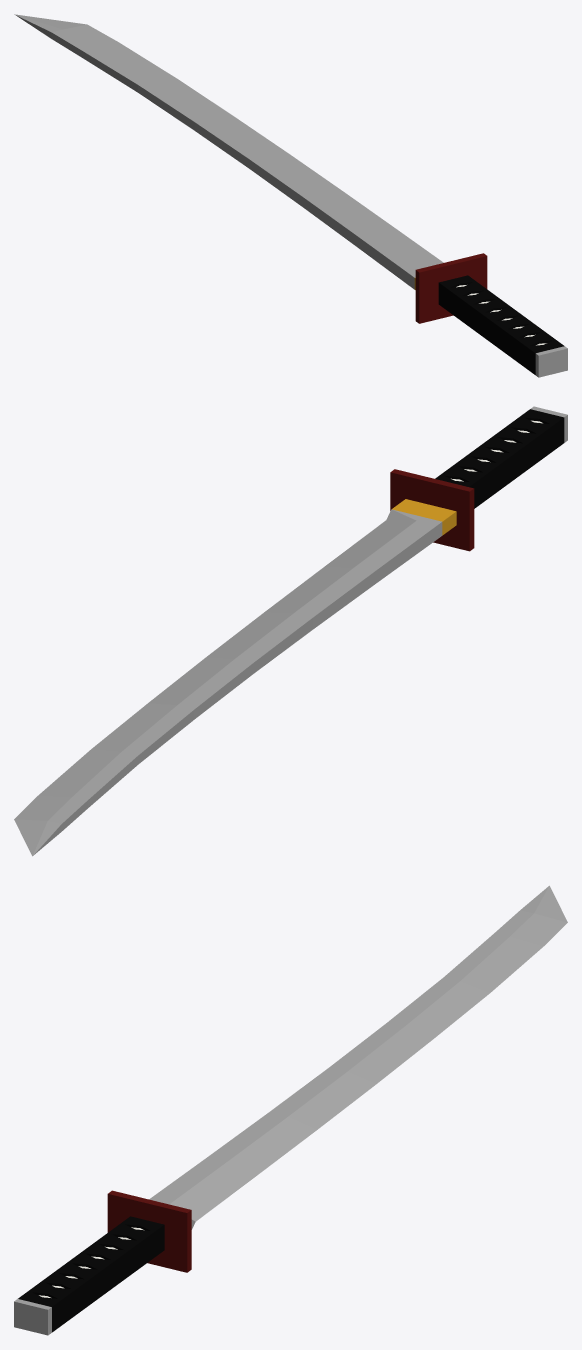
Rendered from Ko Katana - Textured Low Poly Asian Weapon Pack by Kickin It Studios.fbx.
3 views of the same model, one above another, from view 1: azimuth 30°, elevation 25°; view 2: azimuth 150°, elevation 25°; view 3: azimuth 330°, elevation 25° (orthographic). The views are drawn at different scales.
Visible parts, largest first — view 1: Ko Katana; view 2: Ko Katana; view 3: Ko Katana.
Part boxes in pixels (x1,y1,x2,y2): Ko Katana: [14, 14, 567, 377]; Ko Katana: [14, 406, 567, 856]; Ko Katana: [14, 885, 567, 1335].
Size of the model in its own units: 65.53 by 39.55 by 688.
